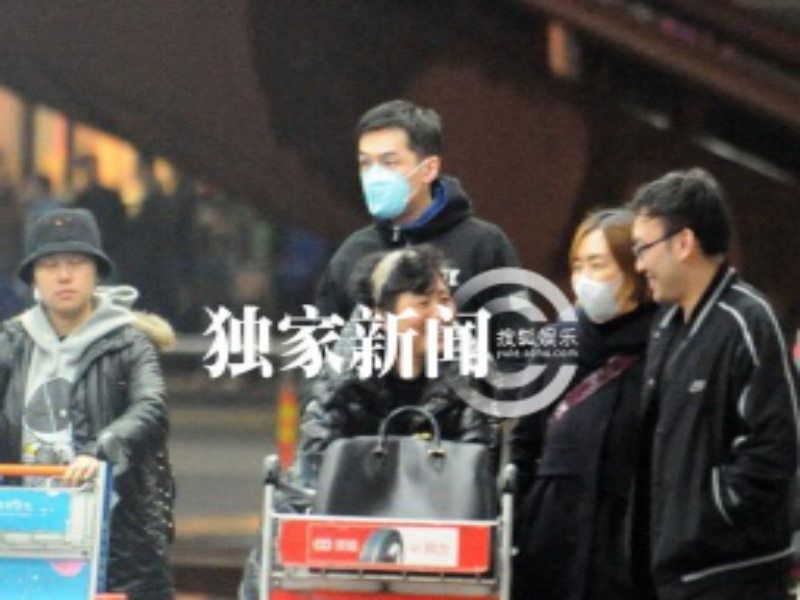ManaoArotava: (339, 91, 454, 235), (554, 198, 656, 328)
TsisyArotava: (15, 199, 121, 329), (624, 182, 707, 318)
